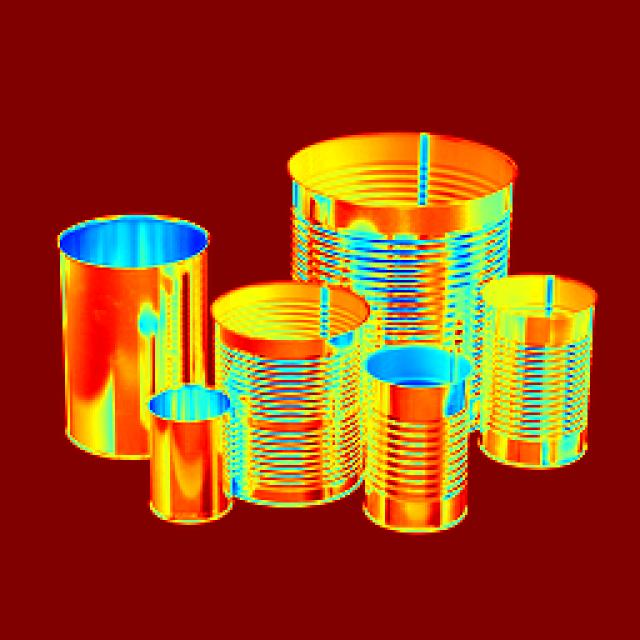Aluminium Food Cans: (49, 202, 229, 518), (286, 129, 526, 306), (203, 272, 361, 502), (363, 352, 488, 543), (487, 268, 608, 463)
